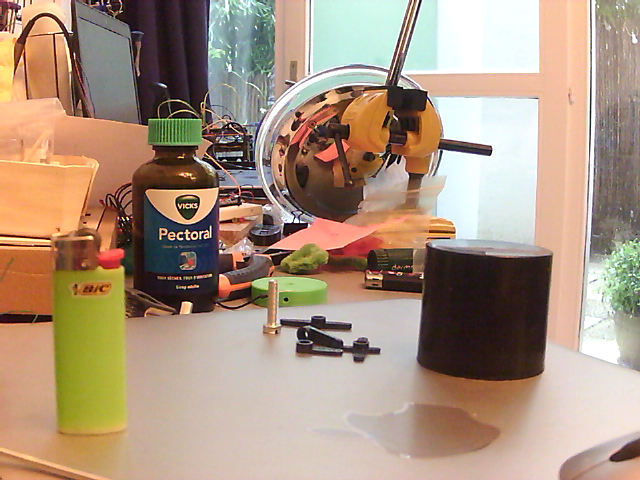bolt: (259, 279, 284, 337)
lighter: (48, 224, 133, 438), (360, 268, 426, 298)
